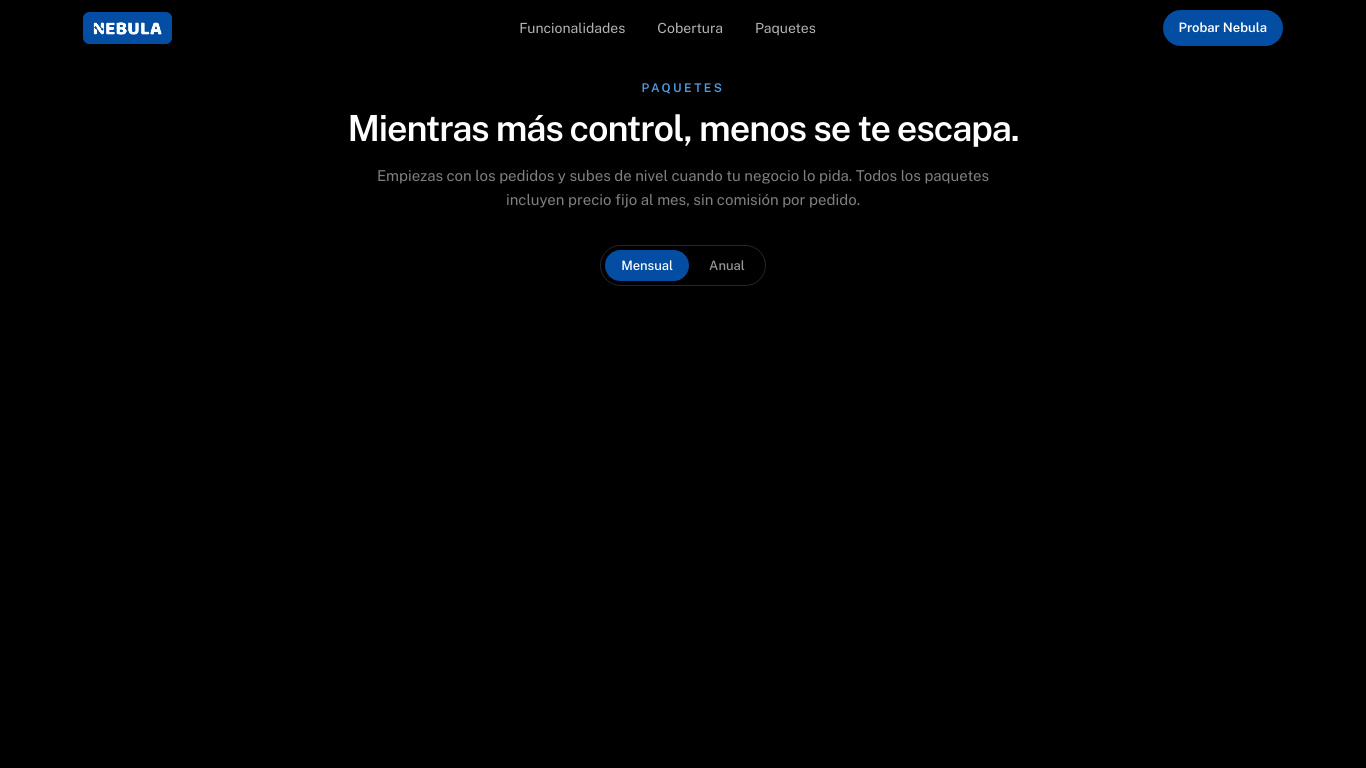
Test: el boton Probar Nebula del header abre el formulario desde cualquier pagina
What coordinates should you click on to do the following:
click the button "Probar Nebula"
I would click on:
 (1223, 28)
Its box is [1162, 10, 1283, 46].
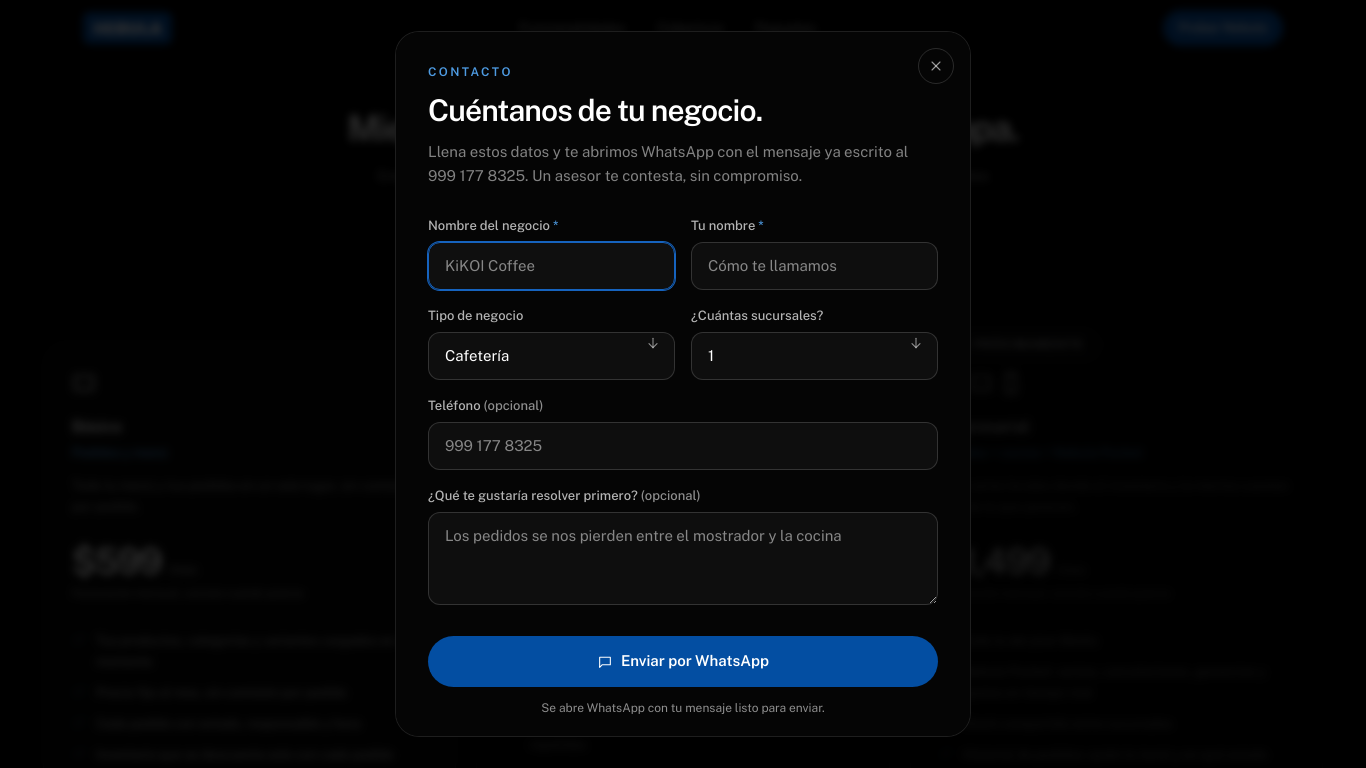
Now the dialog "Cuéntanos de tu negocio" is shown, box [395, 31, 971, 737]
